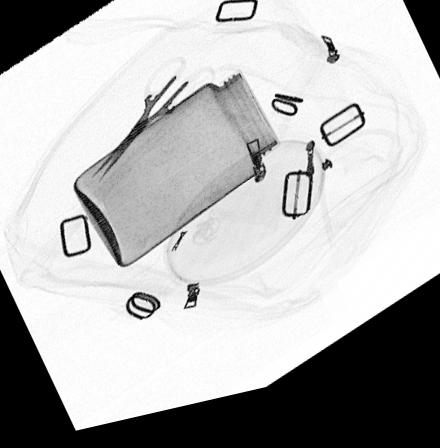Scissors: (91, 63, 217, 190)
